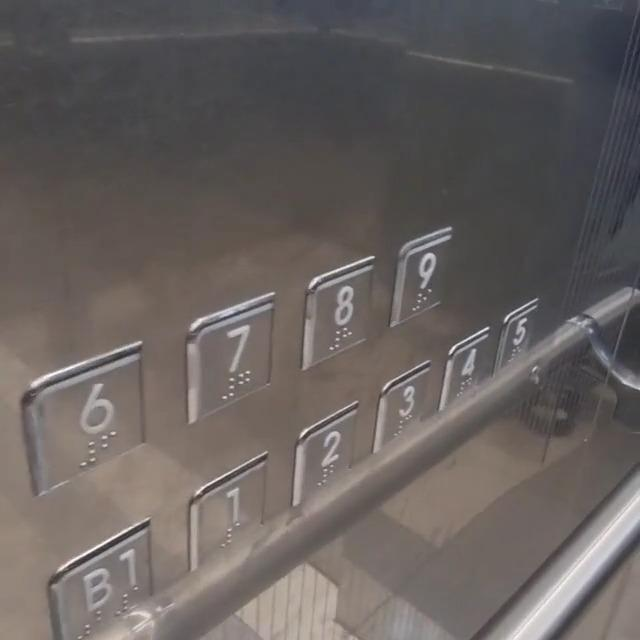button: (28, 364, 156, 481), (46, 535, 153, 640), (187, 319, 272, 408), (189, 477, 259, 554), (286, 423, 354, 497), (307, 282, 374, 357), (400, 242, 455, 308), (436, 336, 483, 403), (381, 375, 422, 447), (502, 303, 542, 366)
